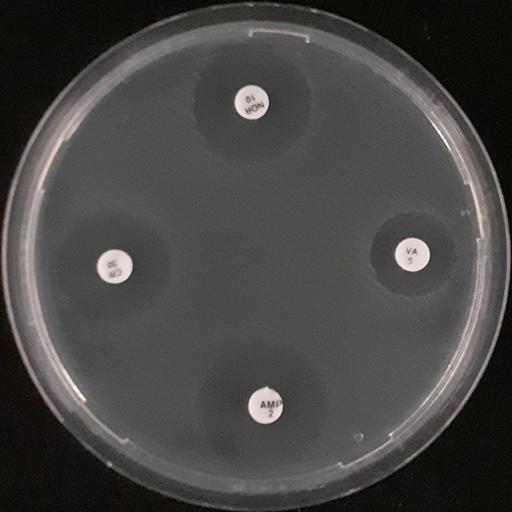disc: (249, 388, 283, 424), (395, 238, 430, 272), (97, 250, 132, 284), (235, 86, 269, 120)
